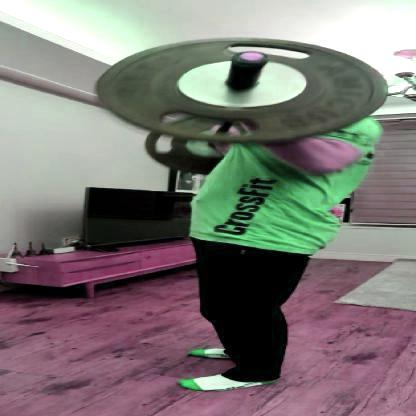Barbell: (234, 49, 275, 67)
